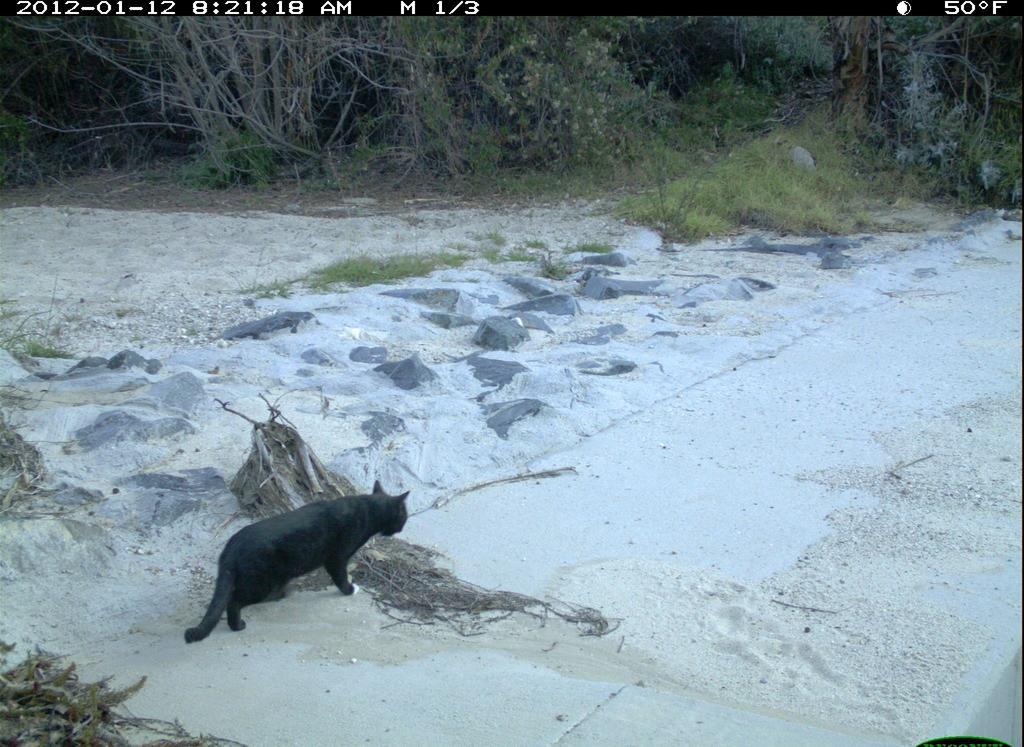cat: (182, 477, 415, 646)
